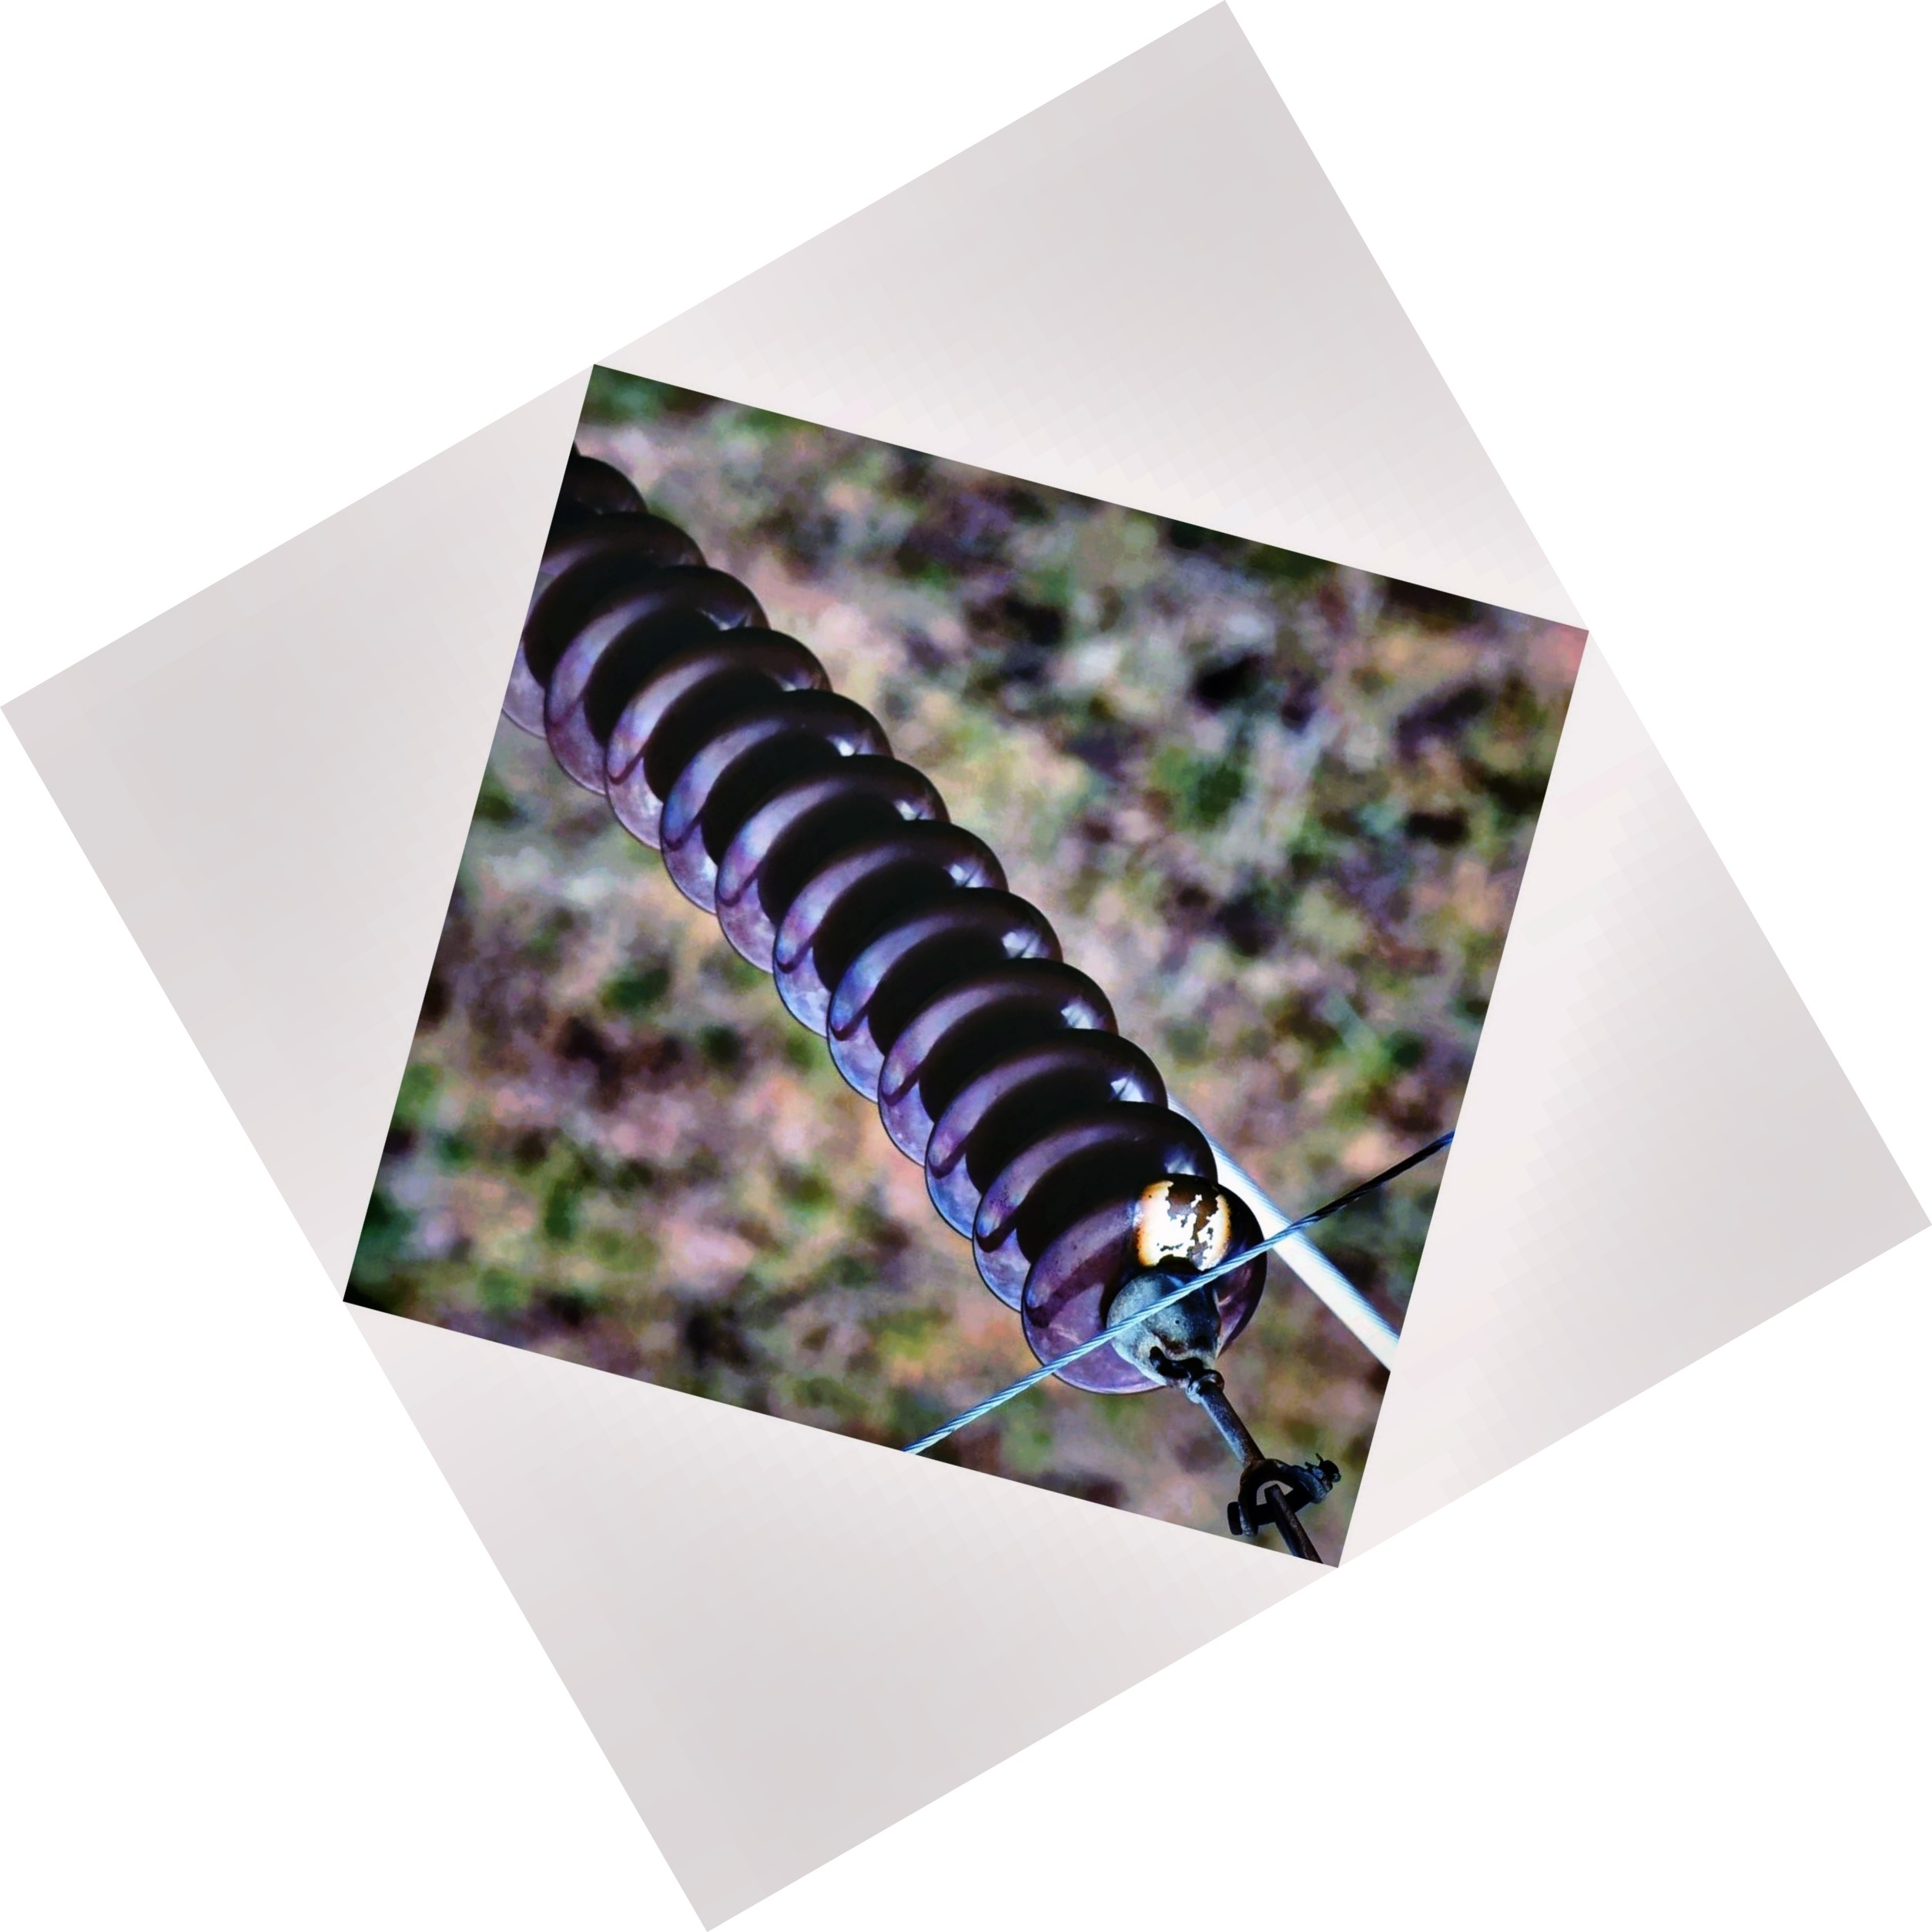Insulator flashover: (1016, 1159, 1286, 1414)
